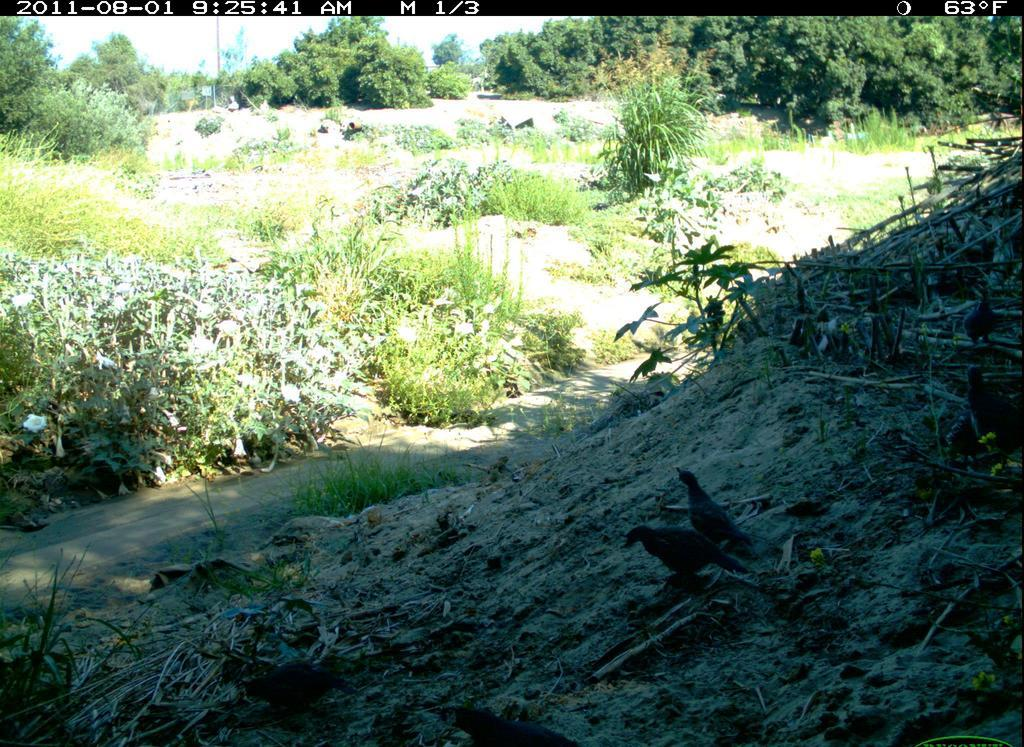bird: (943, 408, 995, 462)
